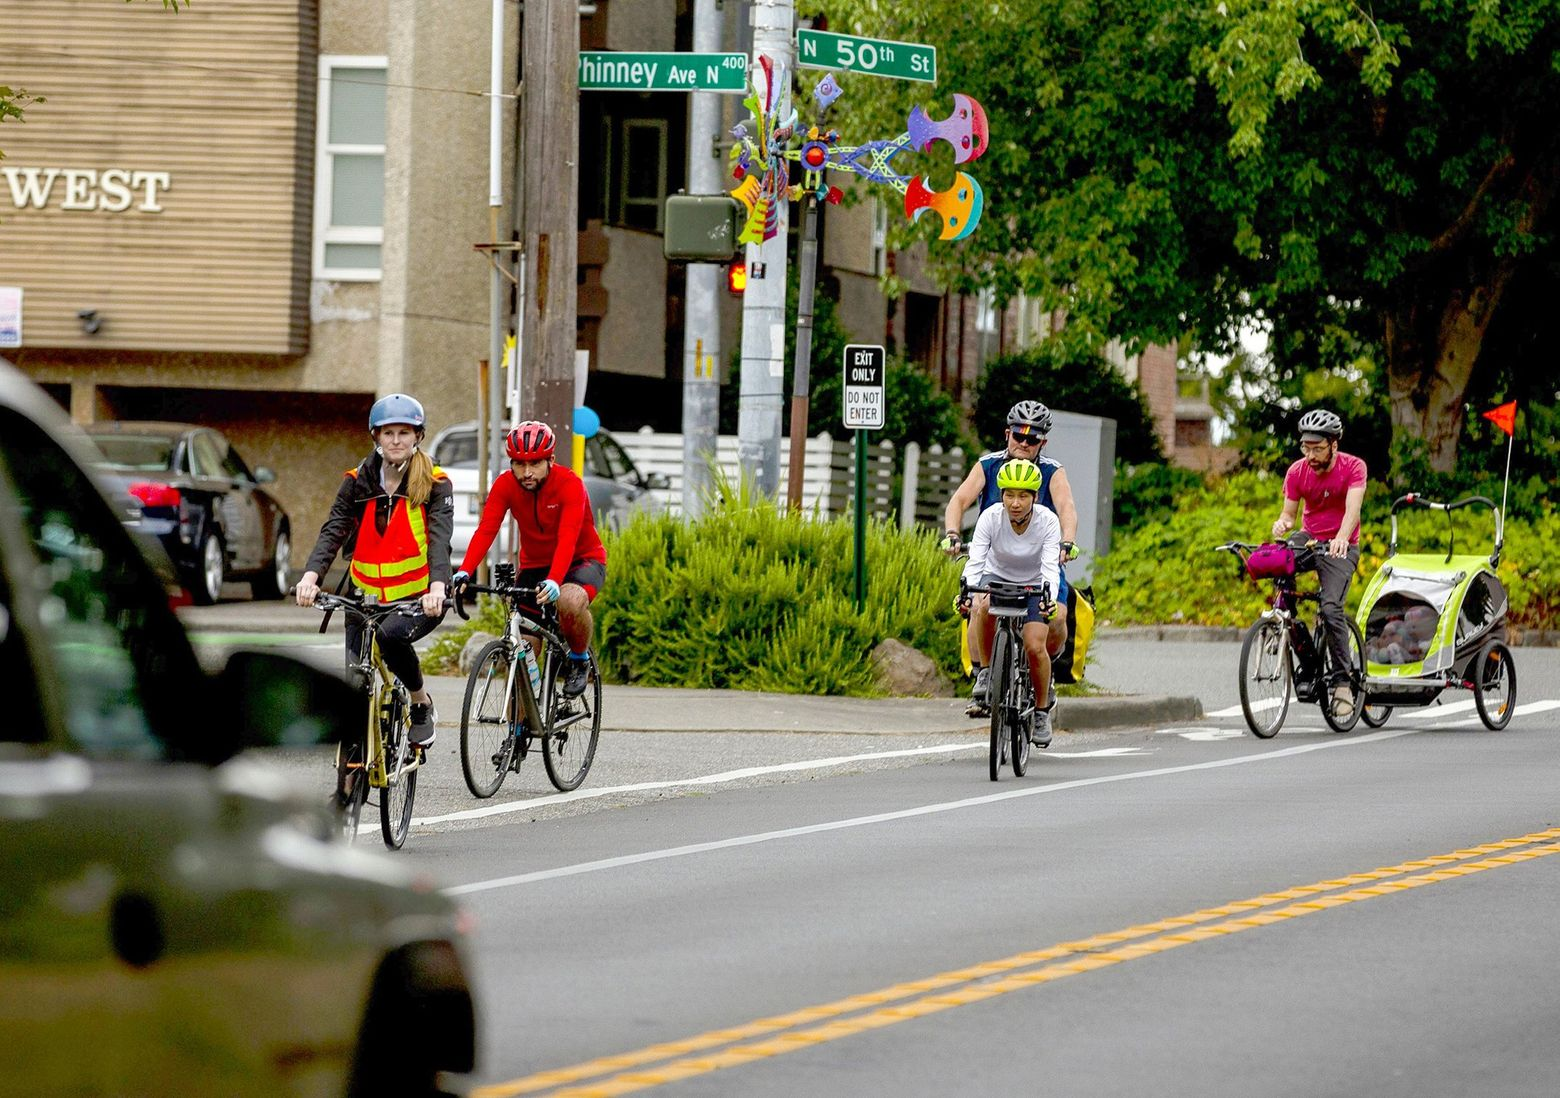helmet: (368, 395, 427, 462), (505, 421, 557, 490), (997, 459, 1044, 518), (1005, 400, 1054, 457), (1299, 409, 1343, 469)
